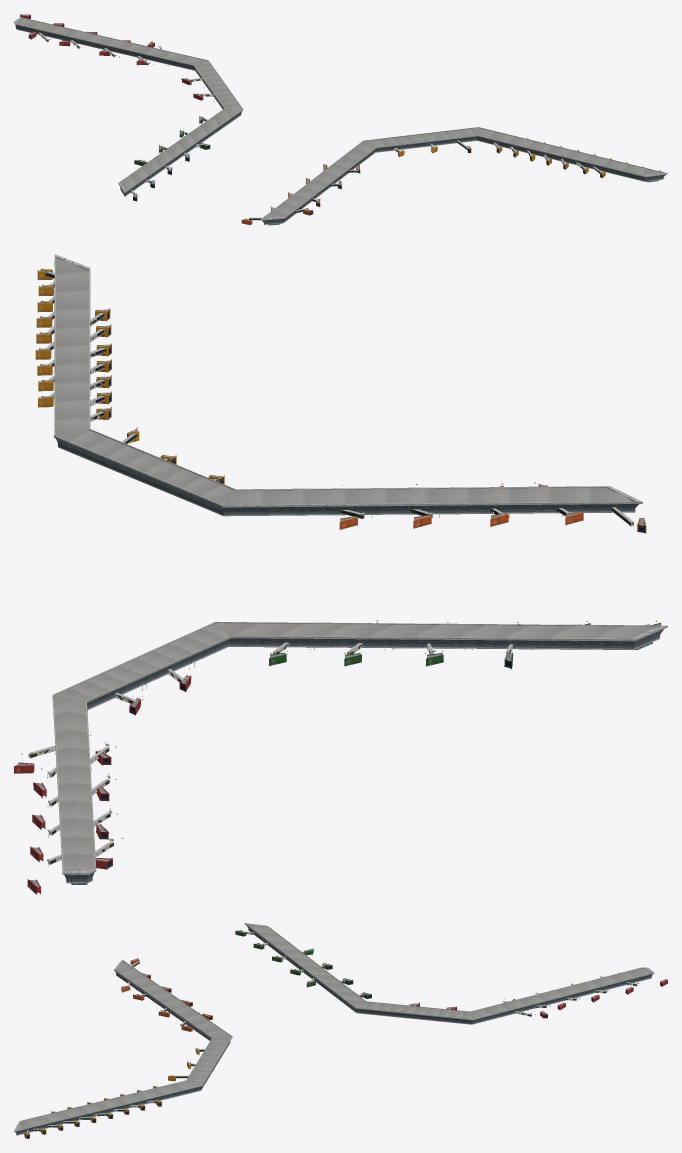
Rendered from vidp_t3.glb.
3 views of the same model, one above another, from view 1: azimuth 30°, elevation 25°; view 2: azimuth 150°, elevation 25°; view 3: azimuth 270°, elevation 25° (orthographic). The views are drawn at different scales.
Visible parts, largest first — view 1: T3APRSE, T3GCW2Frame.028, T3GBR, T3GBY, T3GBO.009; view 2: T3APRSE, T3GBY, T3GCW2Frame.028, T3GBR, T3GBO; view 3: T3APRSE, T3GCW2Frame.028, T3GBO.009, T3GBY, T3GBO.
Part boxes in pixels (bbox=[...]): T3APRSE: bbox=[14, 17, 667, 225]; T3GCW2Frame.028: bbox=[38, 32, 601, 220]; T3GBR: bbox=[20, 14, 203, 100]; T3GBY: bbox=[398, 138, 661, 178]; T3GBO.009: bbox=[133, 116, 210, 201]; T3APRSE: bbox=[52, 254, 667, 884]; T3GBY: bbox=[35, 268, 224, 484]; T3GCW2Frame.028: bbox=[28, 272, 633, 864]; T3GBR: bbox=[14, 675, 190, 894]; T3GBO: bbox=[339, 483, 646, 533]; T3APRSE: bbox=[14, 923, 654, 1135]; T3GCW2Frame.028: bbox=[27, 931, 637, 1132]; T3GBO.009: bbox=[235, 930, 371, 998]; T3GBY: bbox=[24, 1048, 199, 1138]; T3GBO: bbox=[121, 958, 212, 1031].
Size of the model in its own units: 1328 by 23.14 by 1763.
154 materials, 153 textured.
